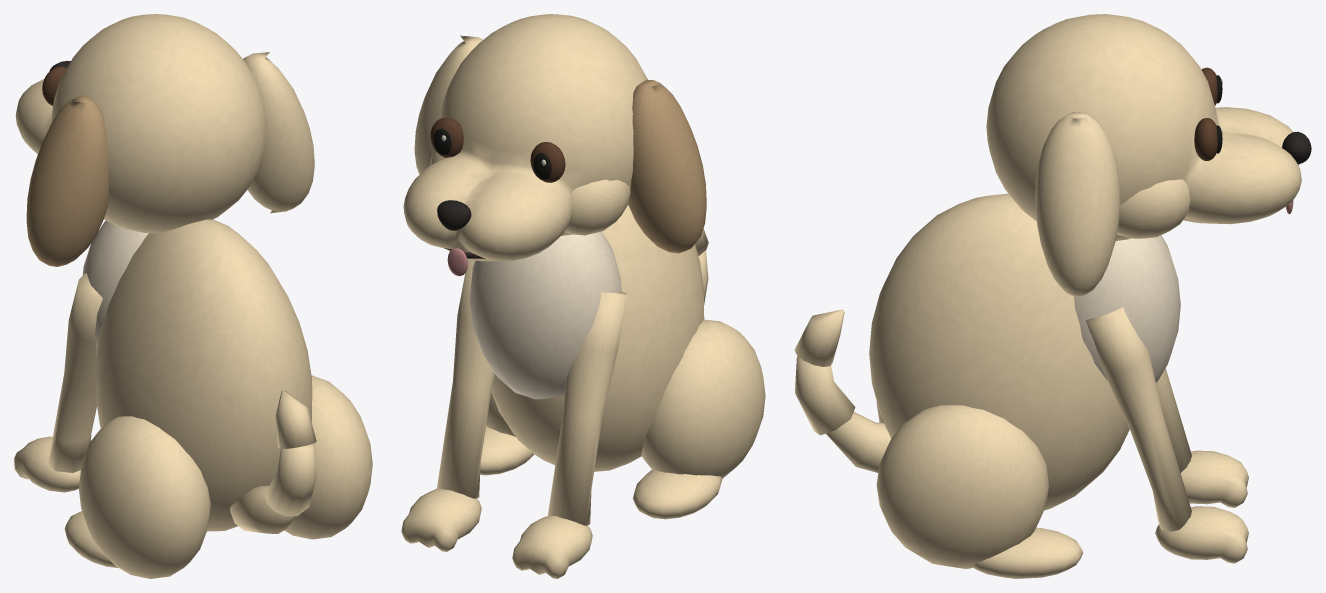
Rendered from dog.glb.
3 views of the same model, side by side, from view 1: azimuth 30°, elevation 25°; view 2: azimuth 150°, elevation 25°; view 3: azimuth 270°, elevation 25° (orthographic). The views are drawn at different scales.
Parts seen in each view (by area): view 1: Torso, Head, Haunch_L, Ear_L, Haunch_R, Ear_R, Leg_FL, Chest, Tail_2, Paw_FL, Tail_1, Tail_3 (+2 smaller); view 2: Head, Torso, Chest, Haunch_L, Ear_L, Leg_FL, Leg_FR, Paw_FR, Paw_FL, Paw_BL, Cheek_L, Ear_R (+5 smaller); view 3: Torso, Head, Haunch_R, Ear_R, Leg_FR, Chest, Paw_FR, Paw_BR, Cheek_R, Paw_FL, Tail_2, Tail_1 (+4 smaller).
Part boxes in pixels (bbox=[...]): Torso: bbox=[95, 219, 312, 531]; Head: bbox=[15, 14, 266, 233]; Haunch_L: bbox=[79, 416, 210, 578]; Ear_L: bbox=[26, 95, 108, 266]; Haunch_R: bbox=[284, 375, 372, 539]; Ear_R: bbox=[243, 52, 314, 213]; Leg_FL: bbox=[48, 273, 102, 472]; Chest: bbox=[82, 220, 148, 348]; Tail_2: bbox=[265, 444, 316, 516]; Paw_FL: bbox=[14, 436, 80, 492]; Tail_1: bbox=[230, 485, 294, 533]; Tail_3: bbox=[275, 390, 316, 448]; Head: bbox=[403, 14, 647, 261]; Torso: bbox=[491, 205, 704, 471]; Chest: bbox=[470, 231, 621, 399]; Haunch_L: bbox=[641, 319, 765, 478]; Ear_L: bbox=[628, 79, 706, 253]; Leg_FL: bbox=[547, 291, 626, 525]; Leg_FR: bbox=[437, 259, 495, 498]; Paw_FR: bbox=[401, 488, 481, 551]; Paw_FL: bbox=[512, 515, 592, 578]; Paw_BL: bbox=[633, 469, 722, 519]; Cheek_L: bbox=[564, 179, 630, 235]; Ear_R: bbox=[414, 35, 482, 174]; Torso: bbox=[869, 193, 1129, 510]; Head: bbox=[986, 14, 1301, 240]; Haunch_R: bbox=[876, 405, 1048, 569]; Ear_R: bbox=[1035, 112, 1120, 296]; Leg_FR: bbox=[1085, 307, 1191, 531]; Chest: bbox=[1074, 235, 1180, 382]; Paw_FR: bbox=[1155, 506, 1248, 563]; Paw_BR: bbox=[972, 527, 1083, 578]; Cheek_R: bbox=[1117, 179, 1190, 238]; Paw_FL: bbox=[1180, 450, 1248, 507]; Tail_2: bbox=[795, 356, 855, 435]; Tail_1: bbox=[826, 412, 891, 472].
Size of the model in its own units: 0.364 by 0.6007 by 0.5577.
Materials: 7 (1 with a texture image).
